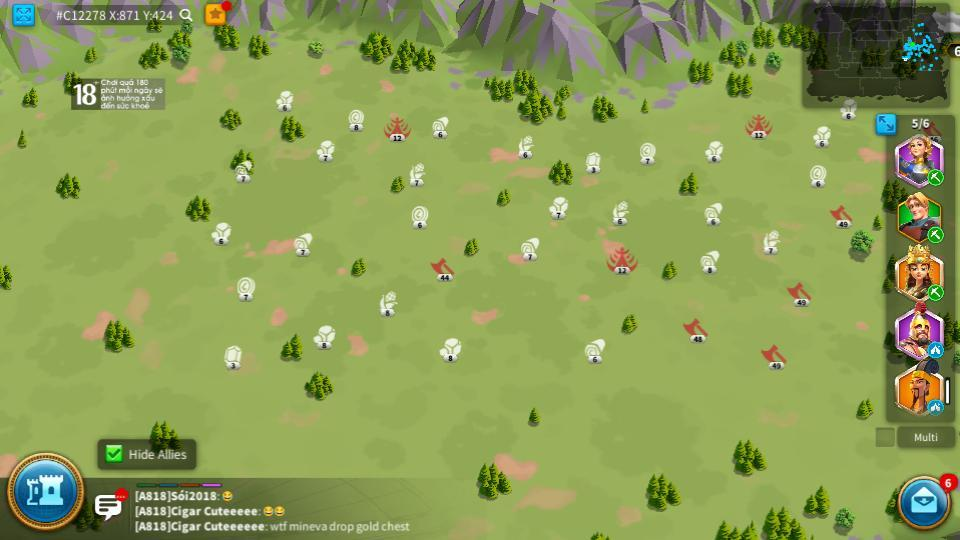gem-z-out: (223, 345, 243, 368), (585, 153, 602, 172)
march_idle: (927, 402, 944, 414), (929, 344, 941, 356)
march_marching: (927, 286, 944, 300), (929, 231, 942, 242), (929, 176, 941, 186)
